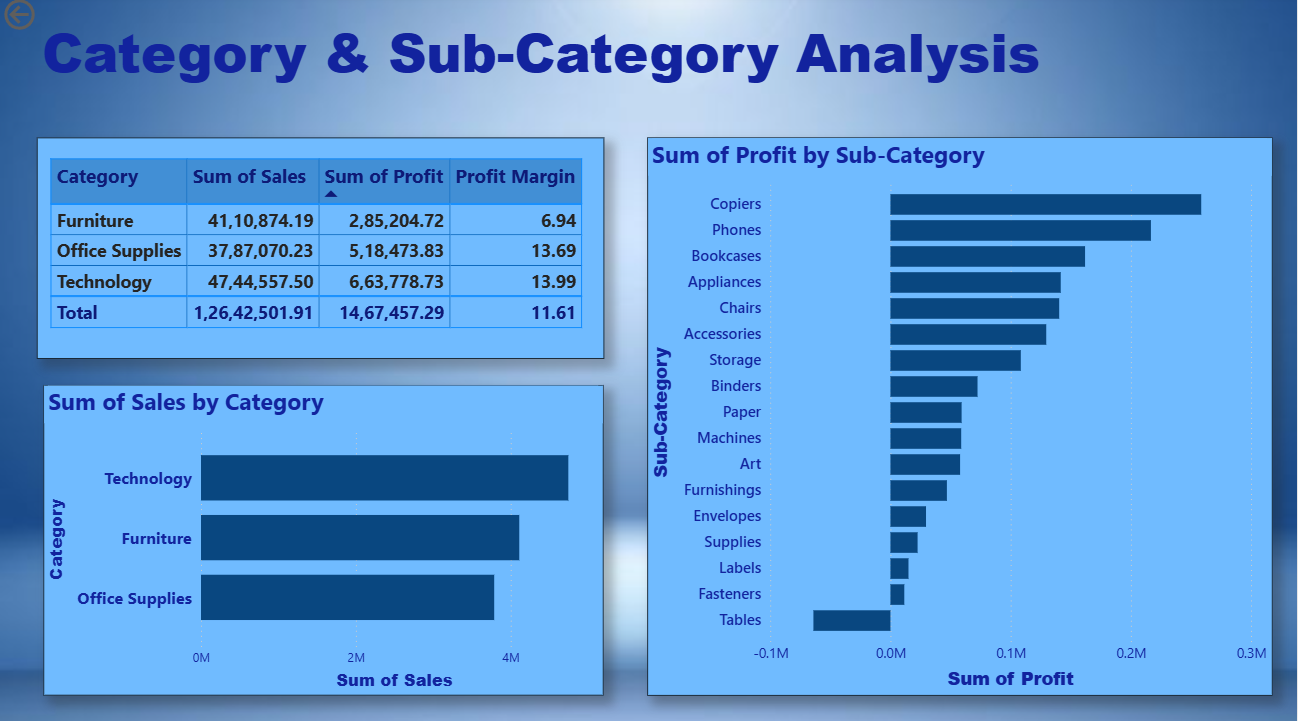

This screenshot's page, from the dashboard's own definition file:
{"tool":"powerbi","page":{"name":"Category & Sub-Category Analysis","canvas":[1280,720],"ordinal":1},"visuals":[{"type":"textbox","title":"Category & Sub-Category Analysis","box":[36.7,20.2,1003.4,69.7],"z":0},{"type":"barChart","fields":{"Y":["Sum(superstore_dataset.Sales)"],"Category":["superstore_dataset.Category"]},"box":[44,385.2,552.2,306.3],"z":1000},{"type":"tableEx","fields":{"Values":["superstore_dataset.Category","Sum(superstore_dataset.Sales)","Sum(superstore_dataset.Profit)","superstore_dataset.Profit Margin"]},"box":[36.7,141.2,559.5,218.3],"z":2000},{"type":"barChart","fields":{"Category":["superstore_dataset.Sub-Category"],"Y":["Sum(superstore_dataset.Profit)"]},"box":[640.2,141.2,616.4,550.3],"z":3000},{"type":"actionButton","box":[0,0,100,40],"z":4000}]}

Visuals, with their boxes in screenshot pixels (x1, y1, x2, y2), scaled from the page's 1280x720 canvas onto the 1298x721 screenshot:
"Category & Sub-Category Analysis" textbox: 37 20 1055 90
barChart - Sum(superstore_dataset.Sales) x superstore_dataset.Category: 45 386 605 692
tableEx - superstore_dataset.Category x Sum(superstore_dataset.Sales): 37 141 605 360
barChart - superstore_dataset.Sub-Category x Sum(superstore_dataset.Profit): 649 141 1274 692
actionButton: 0 0 101 40
